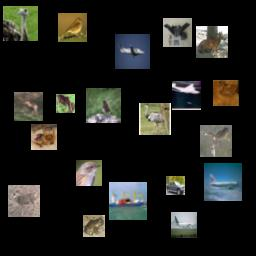airplane: (204, 163, 242, 201), (115, 34, 150, 69), (172, 81, 201, 110), (163, 18, 192, 47), (171, 212, 197, 238)
automobile: (166, 176, 185, 195)
bird: (3, 6, 38, 41), (86, 88, 121, 123), (139, 103, 171, 135), (58, 13, 87, 42), (76, 160, 102, 186)
cat: (213, 80, 239, 106)
deer: (8, 185, 40, 217), (196, 26, 228, 58), (14, 92, 43, 121), (56, 94, 75, 113)
dog: (31, 124, 57, 150)
frog: (200, 125, 232, 157), (83, 215, 105, 237)
ship: (109, 182, 147, 220)
